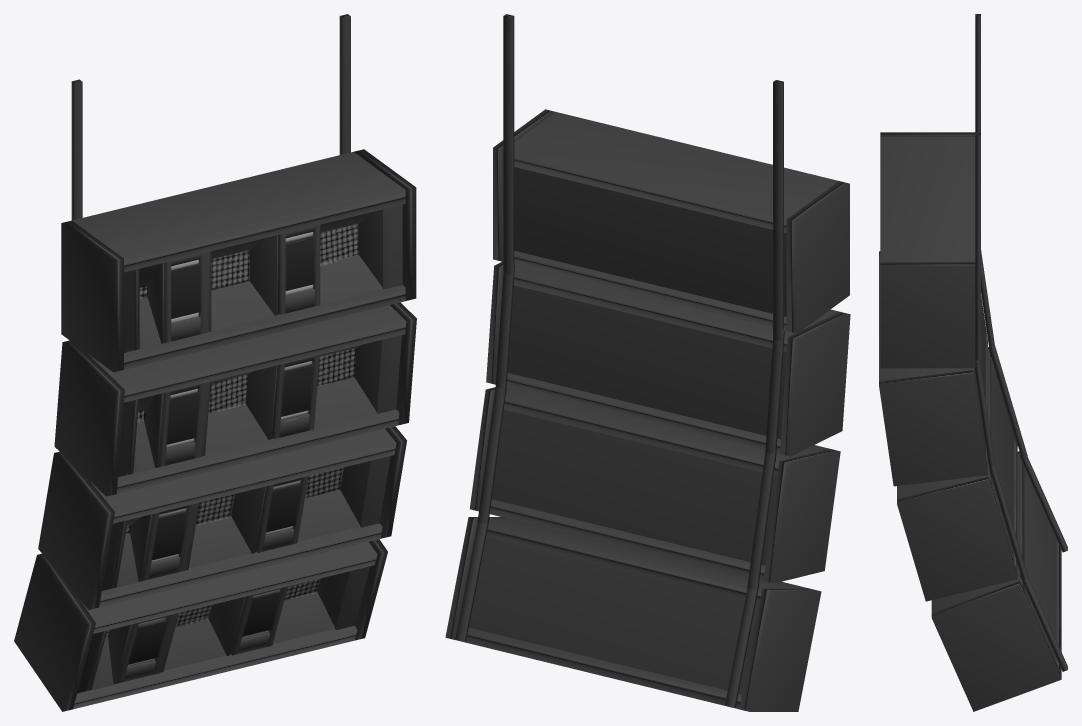
The model's file is SpeakerBig.obj.
The picture shows the model from 3 angles, left to right: view 1: azimuth 30°, elevation 25°; view 2: azimuth 150°, elevation 25°; view 3: azimuth 270°, elevation 25°; orthographic projection. The views are drawn at different scales.
Parts seen in each view (by area): view 1: SpeakerBig1:initialShadingGroup; view 2: SpeakerBig1:initialShadingGroup; view 3: SpeakerBig1:initialShadingGroup.
Boxes of the visible parts, left/top/right/bottom form: SpeakerBig1:initialShadingGroup: left=14, top=14, right=416, bottom=711; SpeakerBig1:initialShadingGroup: left=445, top=14, right=850, bottom=711; SpeakerBig1:initialShadingGroup: left=879, top=14, right=1067, bottom=711.
Bounding box in the file's own units: 26.68 × 52.56 × 15.82.
1 material, 1 textured.
